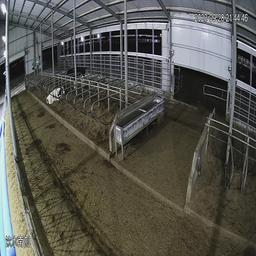cow: (42, 73, 66, 110), (65, 60, 88, 86)
